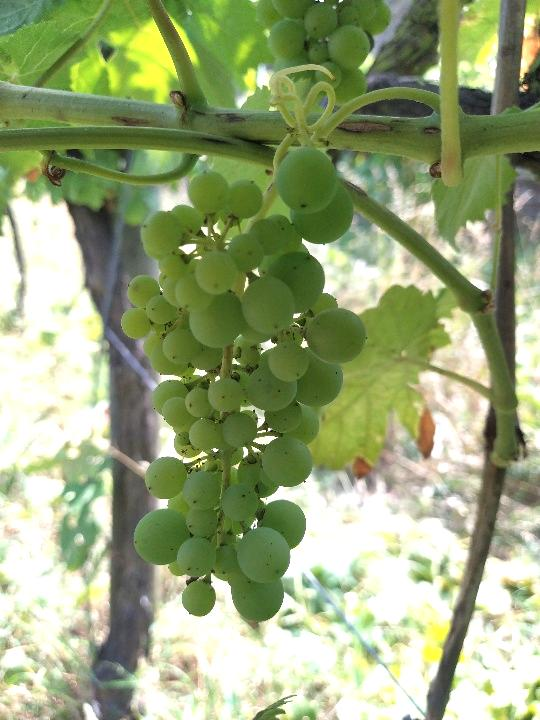grape: (115, 134, 374, 627)
